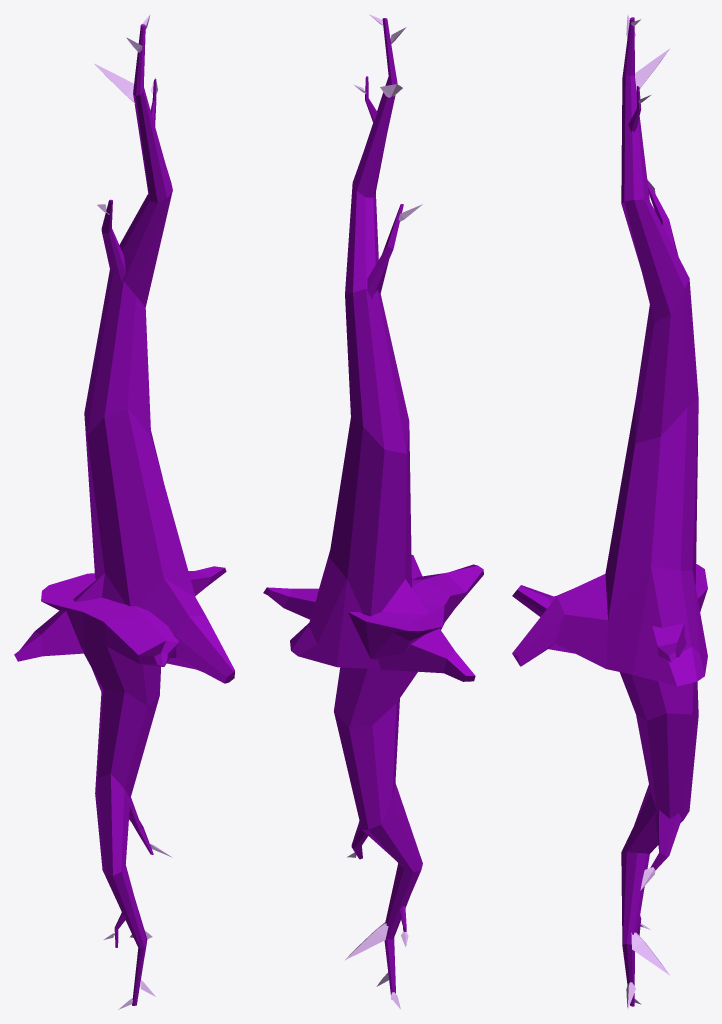
The model's file is 096_ThinTree.fbx.
3 renders of one model, left to right at view 1: azimuth 30°, elevation 25°; view 2: azimuth 150°, elevation 25°; view 3: azimuth 270°, elevation 25°, orthographic.
Parts seen in each view (by area): view 1: ThinTree; view 2: ThinTree; view 3: ThinTree.
Boxes of the visible parts, x1,y1,x2,y2 form: ThinTree: [14, 14, 234, 1009]; ThinTree: [263, 14, 483, 1009]; ThinTree: [512, 14, 707, 1009].
Bounding box in the file's own units: 37.13 × 165 × 29.25.
